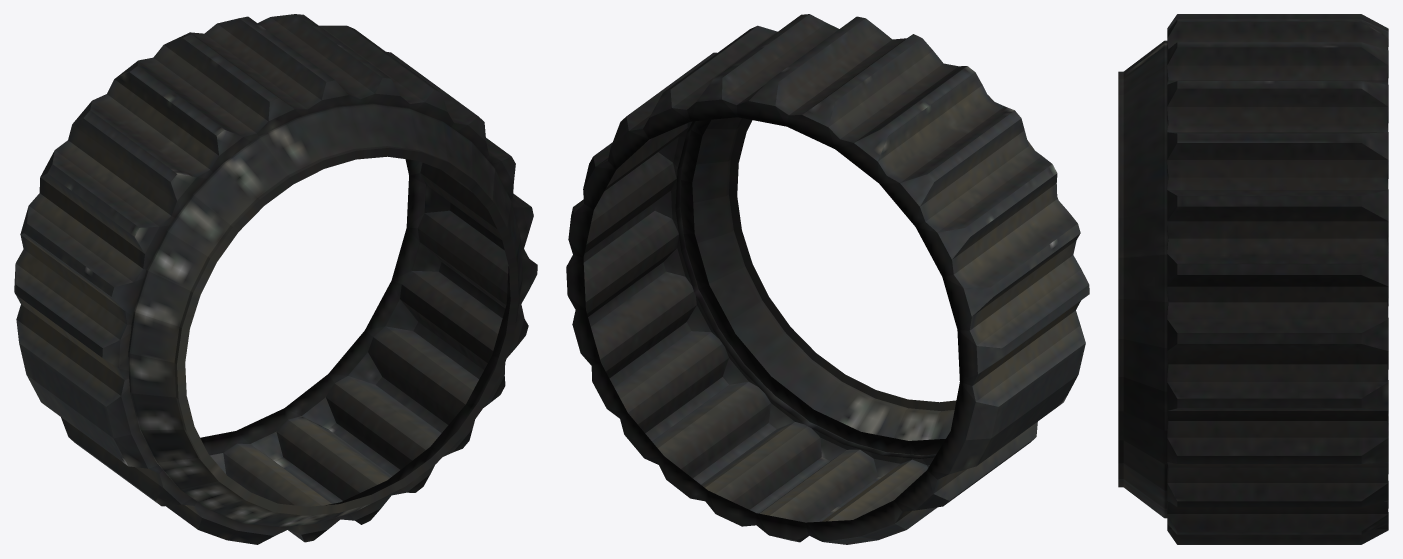
3 views of the same model, side by side, from view 1: azimuth 30°, elevation 25°; view 2: azimuth 150°, elevation 25°; view 3: azimuth 270°, elevation 25° (orthographic). The views are drawn at different scales.
Parts seen in each view (by area): view 1: TW_57c5ac0824597754771e88a9_PZ_Import; view 2: TW_57c5ac0824597754771e88a9_PZ_Import; view 3: TW_57c5ac0824597754771e88a9_PZ_Import.
Boxes of the visible parts, left/top/right/bottom form: TW_57c5ac0824597754771e88a9_PZ_Import: left=14, top=14, right=537, bottom=544; TW_57c5ac0824597754771e88a9_PZ_Import: left=566, top=14, right=1089, bottom=544; TW_57c5ac0824597754771e88a9_PZ_Import: left=1118, top=14, right=1388, bottom=544.
Size of the model in its own units: 0.0259 by 0.0132 by 0.0259.
Materials: 1 (1 with a texture image).
